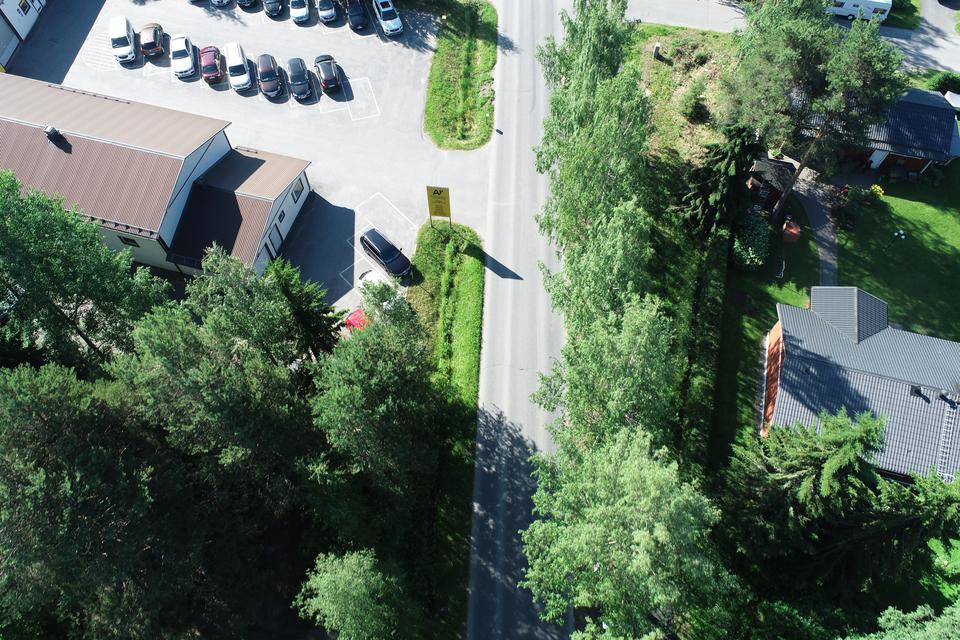intersection: (437, 97, 597, 279)
